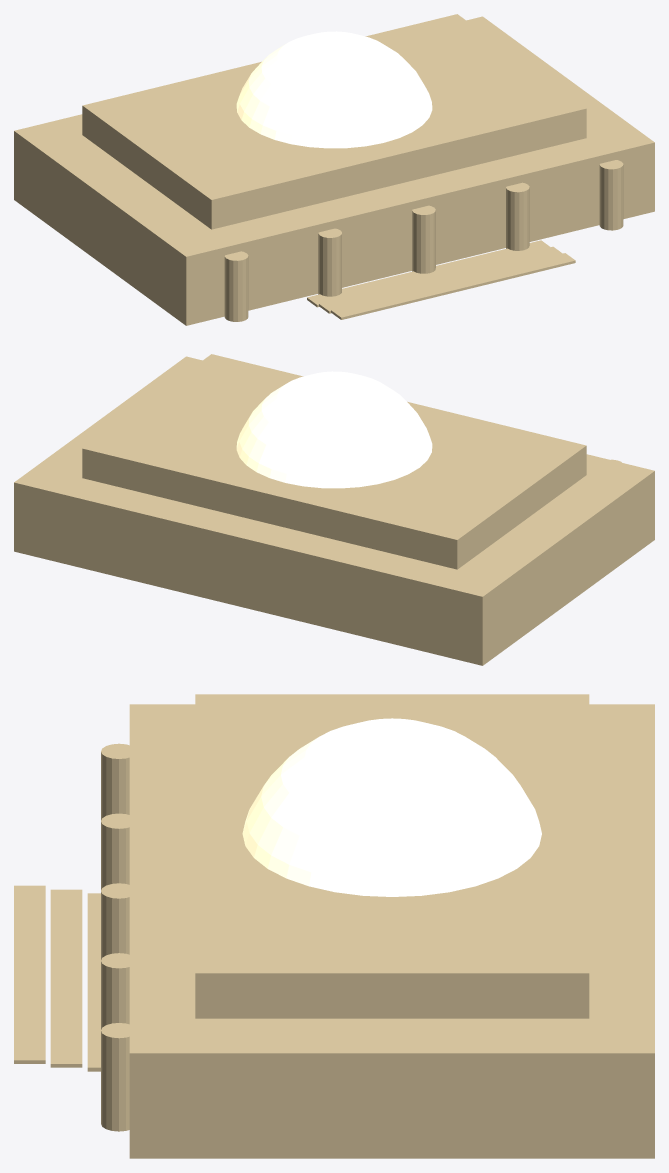
Rendered from civic_core.glb.
The picture shows the model from 3 angles, top to bottom: view 1: azimuth 30°, elevation 25°; view 2: azimuth 150°, elevation 25°; view 3: azimuth 270°, elevation 25°; orthographic projection. The views are drawn at different scales.
Parts seen in each view (by area): view 1: civic_core; view 2: civic_core; view 3: civic_core.
Part boxes in pixels (x1=…): civic_core: x1=14, y1=14, x2=654, y2=325; civic_core: x1=14, y1=354, x2=654, y2=665; civic_core: x1=14, y1=694, x2=654, y2=1158.
Bounding box in the file's own units: 67.1 × 22.53 × 52.09.
